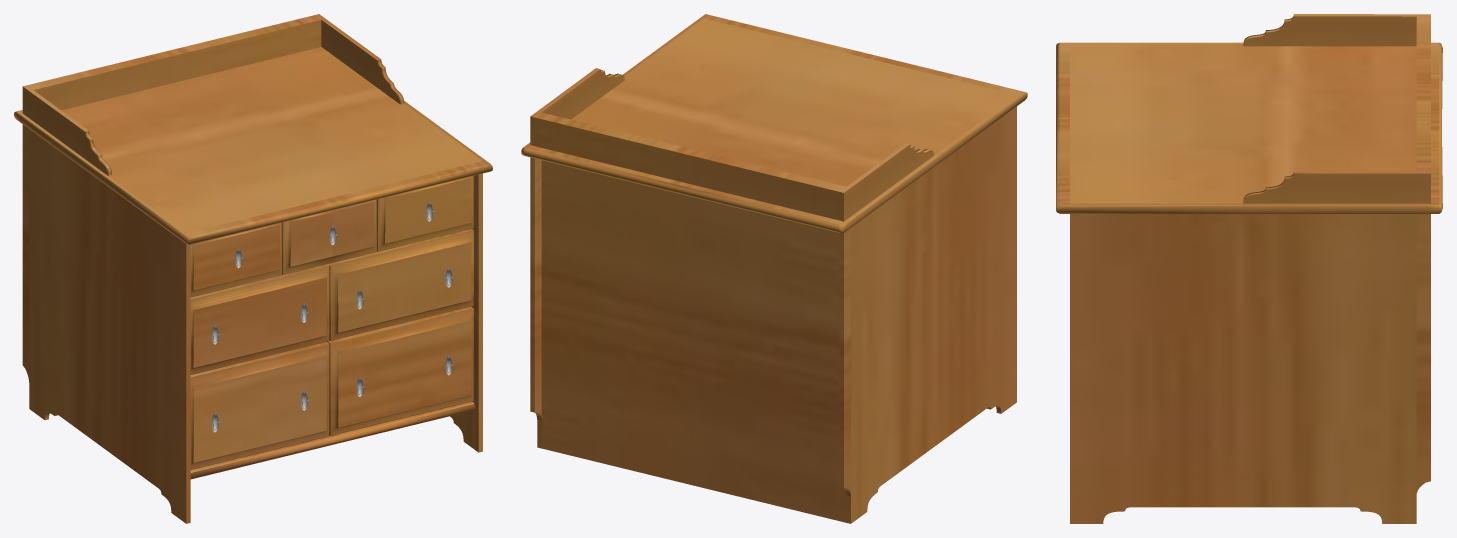
File: sh-bsby-chest.glb
3 views of the same model, side by side, from view 1: azimuth 30°, elevation 25°; view 2: azimuth 150°, elevation 25°; view 3: azimuth 270°, elevation 25° (orthographic). The views are drawn at different scales.
Visible parts, largest first — view 1: Cube, Circle.010_Circle; view 2: Cube; view 3: Cube.
Boxes of the visible parts, <box> form: Cube: <box>14,14,492,523</box>; Circle.010_Circle: <box>212,202,452,432</box>; Cube: <box>521,14,1027,523</box>; Cube: <box>1056,14,1442,523</box>.
Size of the model in its own units: 1 by 1 by 1.
2 materials, 1 textured.
